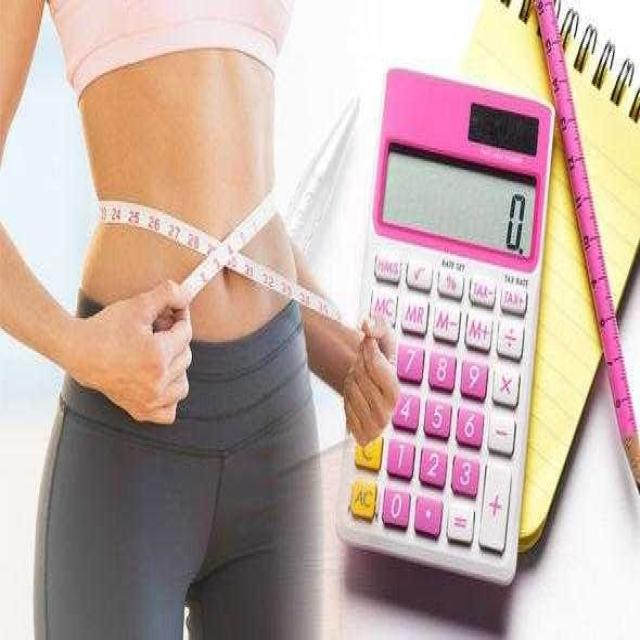Calculator: (334, 64, 555, 587)
